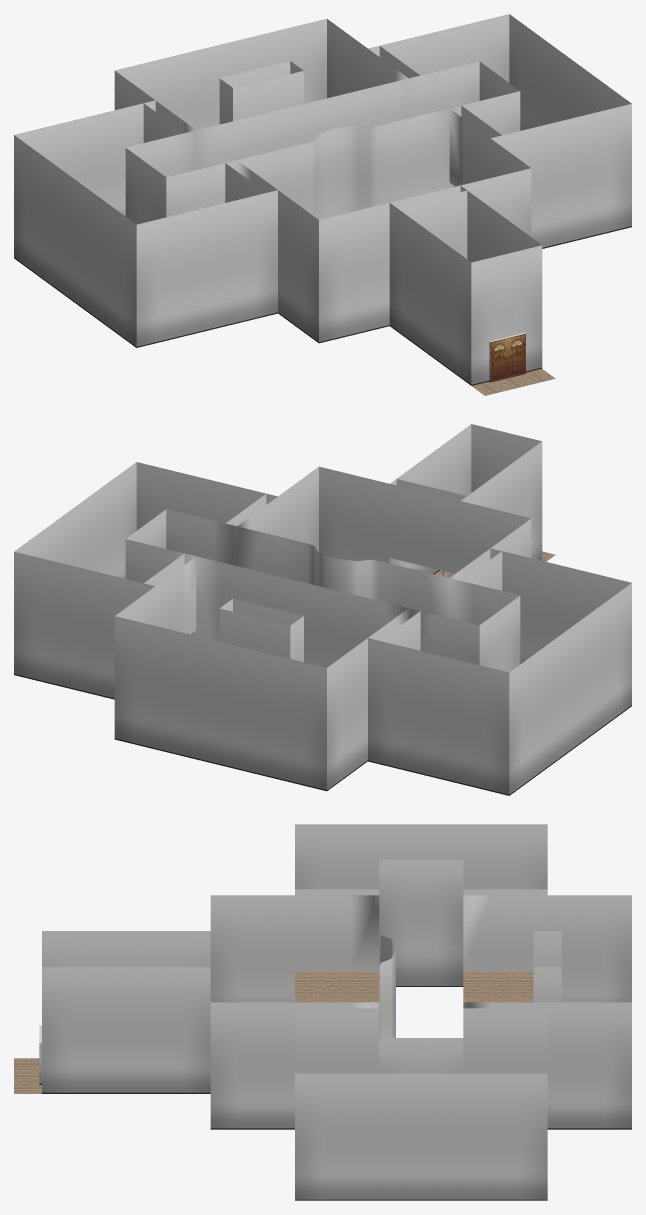
The model's file is SM_World.dae.
3 views of the same model, one above another, from view 1: azimuth 30°, elevation 25°; view 2: azimuth 150°, elevation 25°; view 3: azimuth 270°, elevation 25° (orthographic). The views are drawn at different scales.
Parts seen in each view (by area): view 1: Wall, Floor; view 2: Wall; view 3: Wall, Floor.
Part boxes in pixels (x1,y1,x2,y2): Wall: [14, 14, 631, 385]; Floor: [472, 369, 555, 395]; Wall: [14, 424, 631, 795]; Wall: [39, 824, 631, 1200]; Floor: [14, 971, 533, 1093].
Size of the model in its own units: 42 by 44 by 10.
3 materials, 3 textured.
